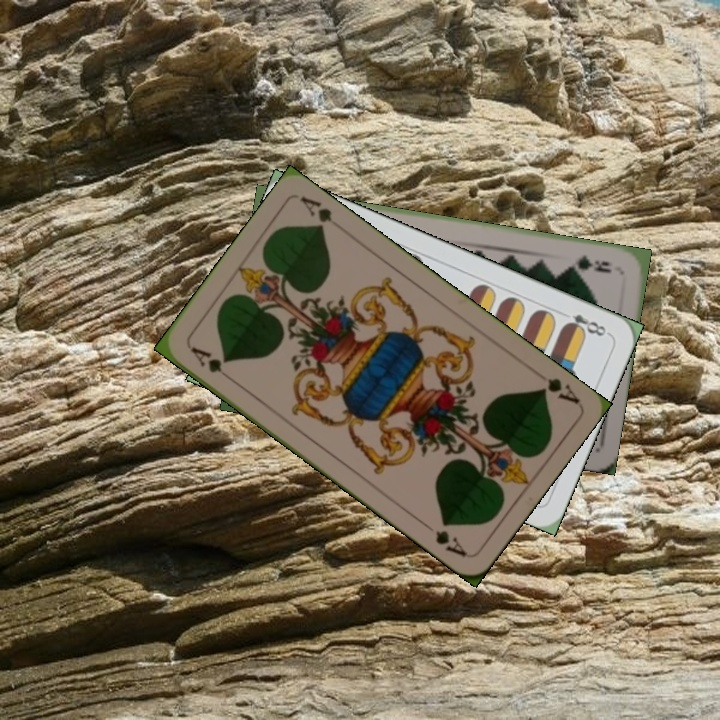E8: (560, 310, 612, 339)
G9: (564, 251, 615, 276)
GA: (186, 342, 236, 384), (535, 374, 581, 406)
